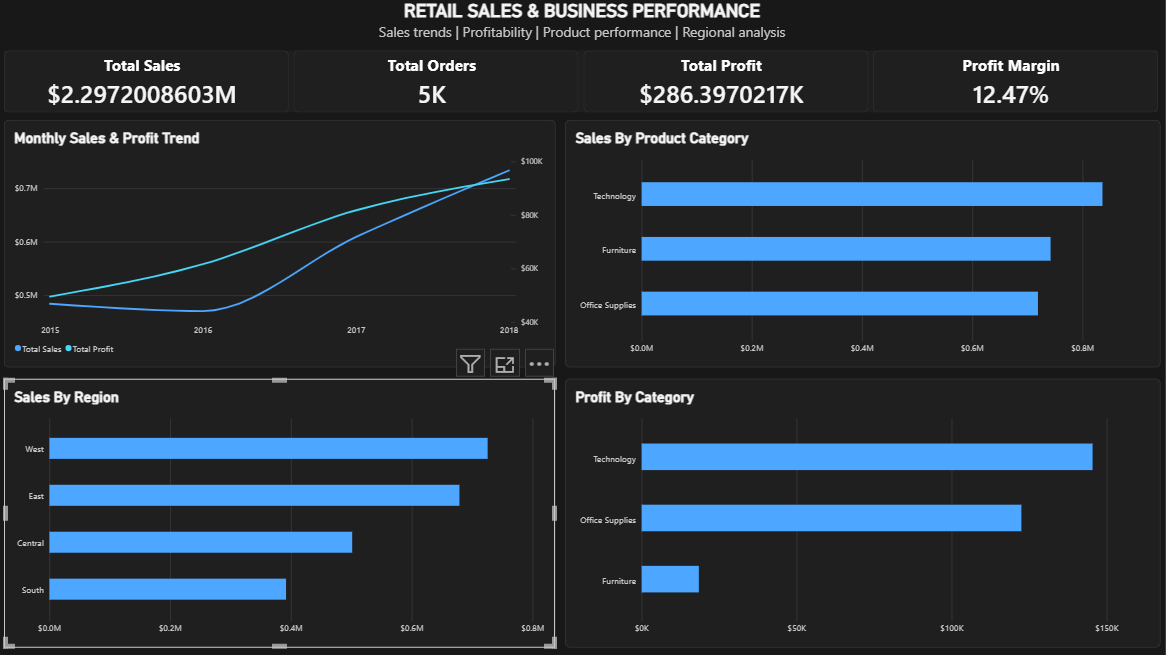

Layout of this report page (visuals, bound fields, positions):
{"tool":"powerbi","page":{"name":"Main Analysis","canvas":[1920,1080],"ordinal":0},"visuals":[{"type":"cardVisual","title":"RETAIL SALES & BUSINESS PERFORMANCE","fields":{"Data":["superstore_Clean.Total Sales","superstore_Clean.Total Orders","superstore_Clean.Total Profit","superstore_Clean.Profit Margin"]},"box":[8.2,0,1904,185.2],"z":0},{"type":"lineChart","title":"Monthly Sales & Profit Trend","fields":{"Category":["superstore_Clean.Order Date.Variation.Date Hierarchy.Year","superstore_Clean.Order Date.Variation.Date Hierarchy.Quarter","superstore_Clean.Order Date.Variation.Date Hierarchy.Month","superstore_Clean.Order Date.Variation.Date Hierarchy.Day"],"Y":["superstore_Clean.Total Sales"],"Y2":["superstore_Clean.Total Profit"]},"box":[8.2,197.6,907.7,407.5],"z":1000},{"type":"clusteredBarChart","title":"Sales By Product Category","fields":{"Category":["superstore_Clean.Category"],"Y":["superstore_Clean.Total Sales"]},"box":[932.4,197.6,979.8,407.5],"z":2000},{"type":"clusteredBarChart","title":"Sales By Region","fields":{"Category":["superstore_Clean.Region"],"Y":["superstore_Clean.Total Sales"]},"box":[8.2,623.7,907.7,442.5],"z":3000},{"type":"clusteredBarChart","title":"Profit By Category","fields":{"Y":["superstore_Clean.Total Profit"],"Category":["superstore_Clean.Category"]},"box":[932.4,623.7,979.8,442.5],"z":3001}]}

Visuals, with their boxes in screenshot pixels (x1, y1, x2, y2), scaled from the page's 1920x1080 canvas onto the 1166x655 screenshot:
"RETAIL SALES & BUSINESS PERFORMANCE" cardVisual: region(5, 0, 1161, 112)
"Monthly Sales & Profit Trend" lineChart: region(5, 120, 556, 367)
"Sales By Product Category" clusteredBarChart: region(566, 120, 1161, 367)
"Sales By Region" clusteredBarChart: region(5, 378, 556, 647)
"Profit By Category" clusteredBarChart: region(566, 378, 1161, 647)
